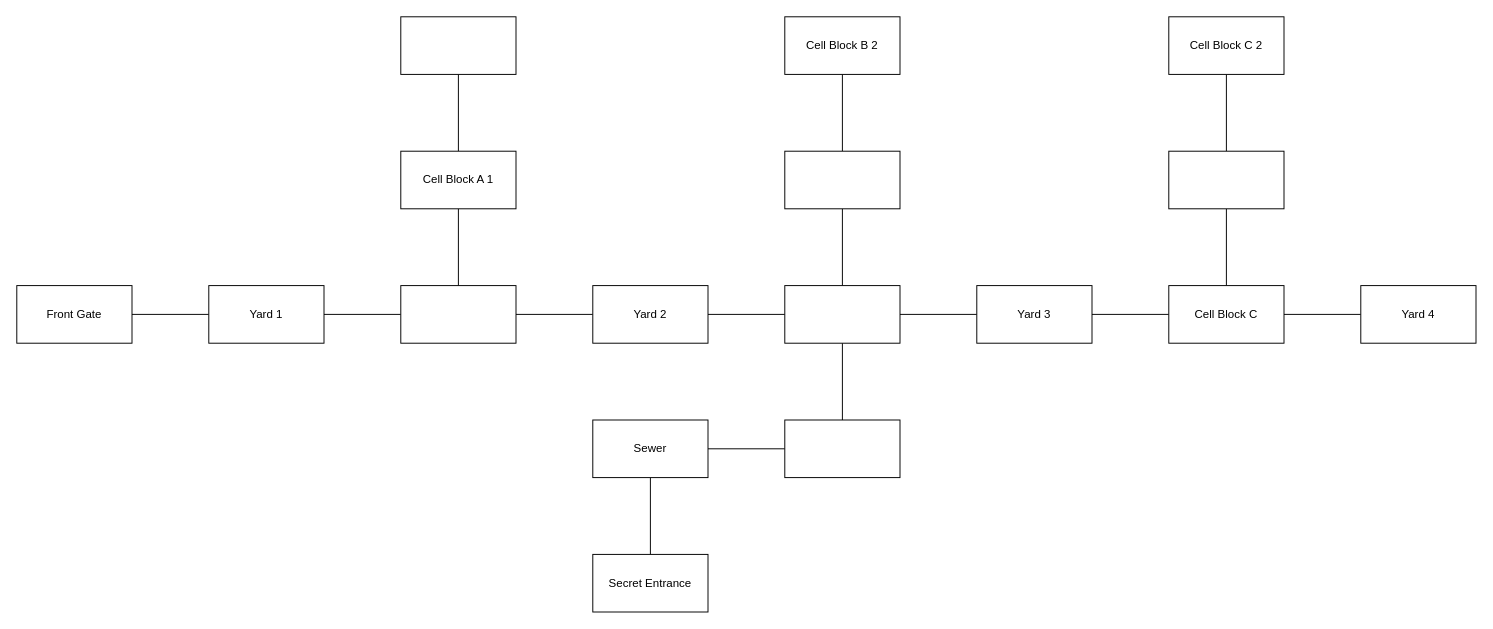
Image size: 1493x629. Some labels were removed from this diagram. The shapes that lost their labels are listed below. From the top down, each one's centre as x and y in pixels, then its label:
point 458,45: Cell Block A 2
point 842,179: Cell Block B 1
point 1226,179: Cell Block C 1
point 458,314: Cell Block A Gate
point 842,314: Cell Block B Gate
point 842,448: Maintainance Tunnel
